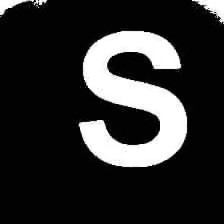LTR_S: (63, 14, 192, 172)
